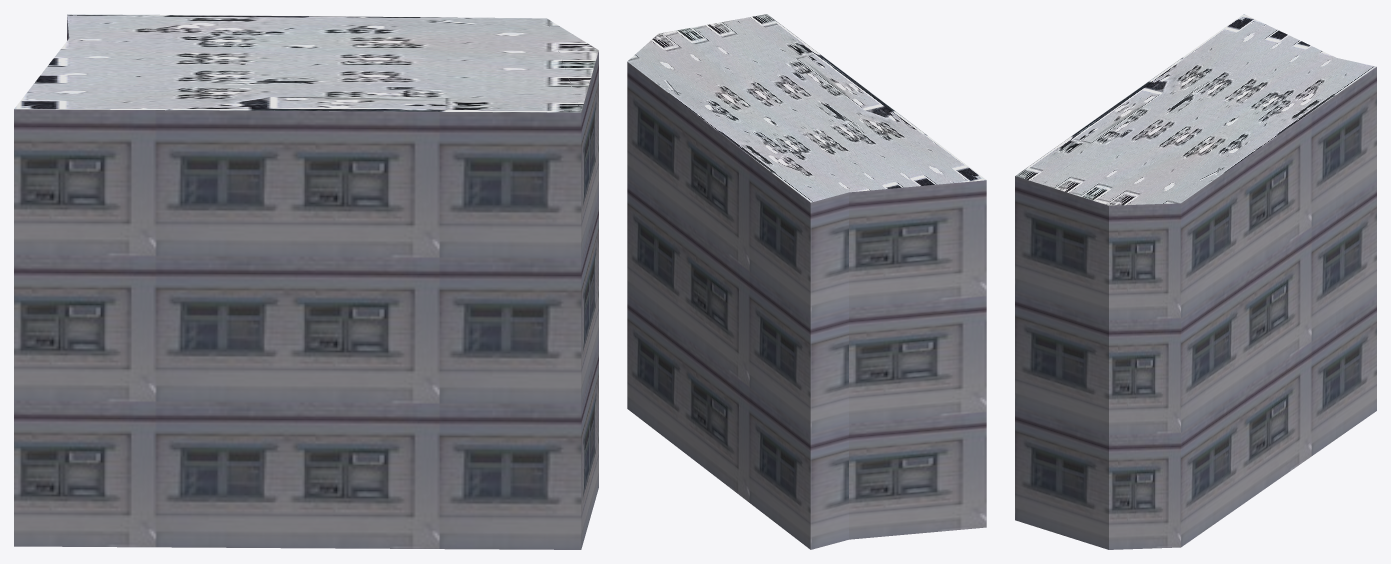
Rendered from ResTex__3594.fbx.
3 views of the same model, side by side, from view 1: azimuth 30°, elevation 25°; view 2: azimuth 150°, elevation 25°; view 3: azimuth 270°, elevation 25° (orthographic). The views are drawn at different scales.
Visible parts, largest first — view 1: CityEngineMaterial_1_m, CityEngineMaterial_8_m; view 2: CityEngineMaterial_1_m, CityEngineMaterial_8_m; view 3: CityEngineMaterial_1_m, CityEngineMaterial_8_m.
Boxes of the visible parts, left/top/right/bottom form: CityEngineMaterial_1_m: left=14, top=17, right=598, bottom=549; CityEngineMaterial_8_m: left=14, top=14, right=598, bottom=112; CityEngineMaterial_1_m: left=627, top=62, right=986, bottom=549; CityEngineMaterial_8_m: left=627, top=14, right=986, bottom=202; CityEngineMaterial_1_m: left=1015, top=67, right=1376, bottom=549; CityEngineMaterial_8_m: left=1015, top=14, right=1376, bottom=205.
Size of the model in its own units: 10.75 by 9 by 8.57.
2 materials, 2 textured.
